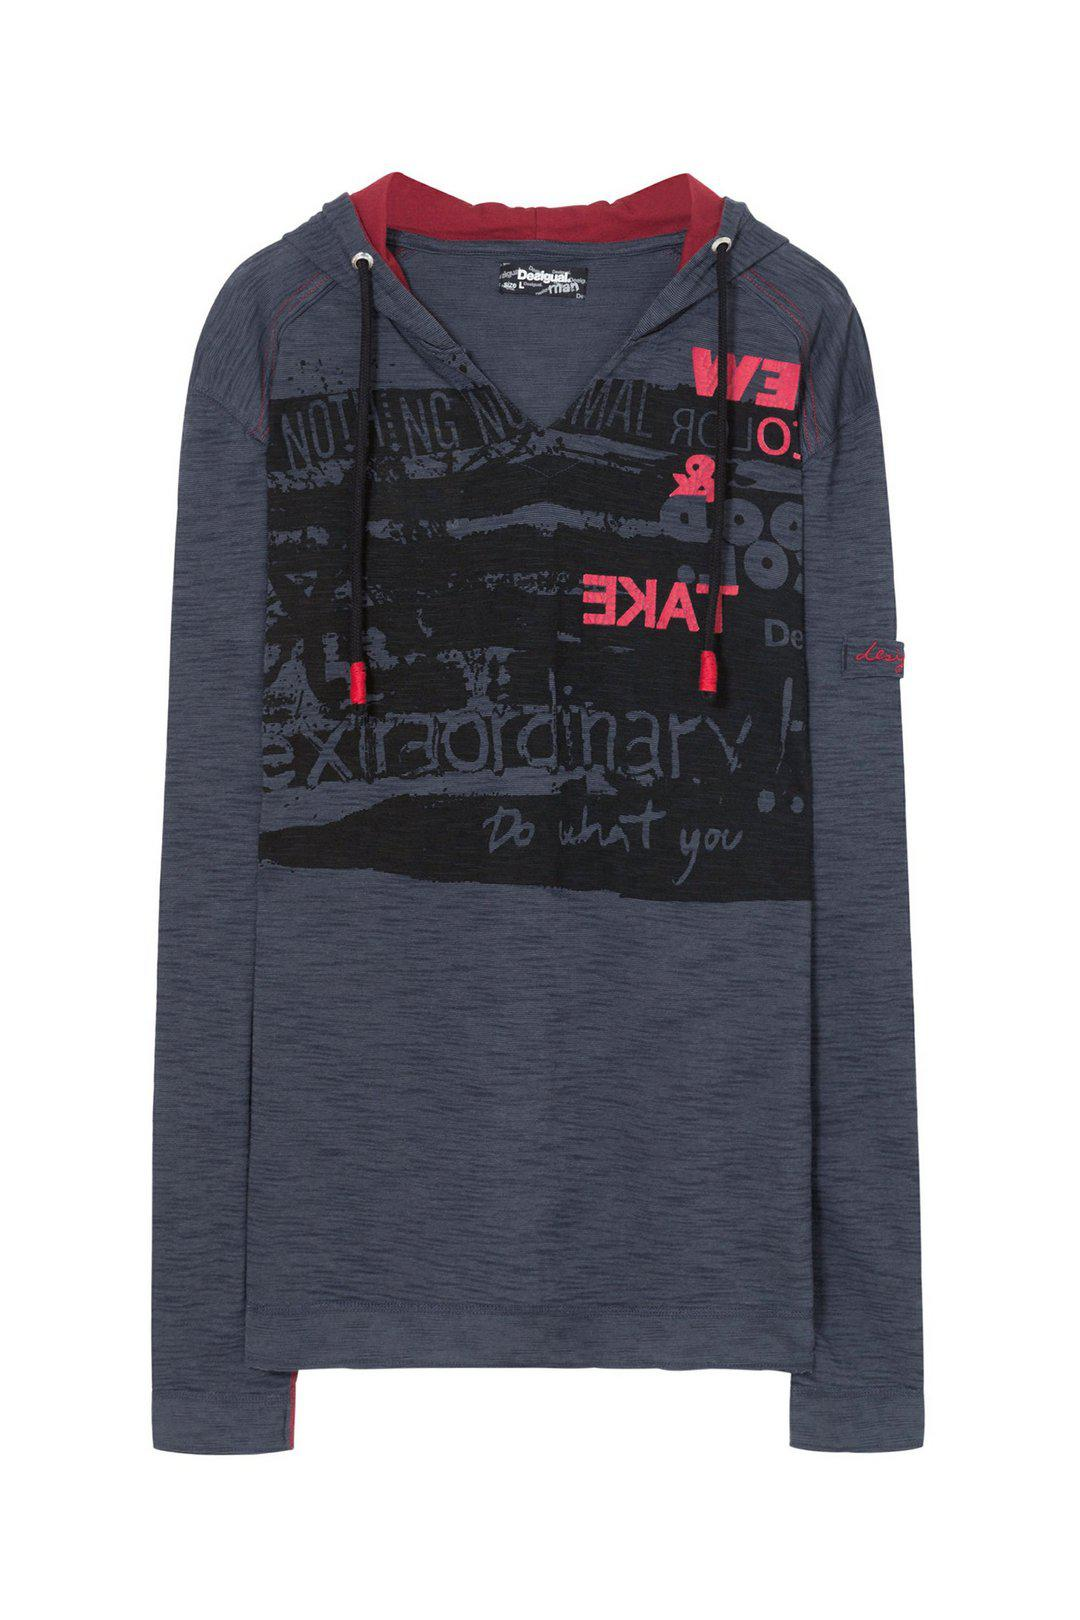teeshirt: (63, 149, 1008, 1534)
